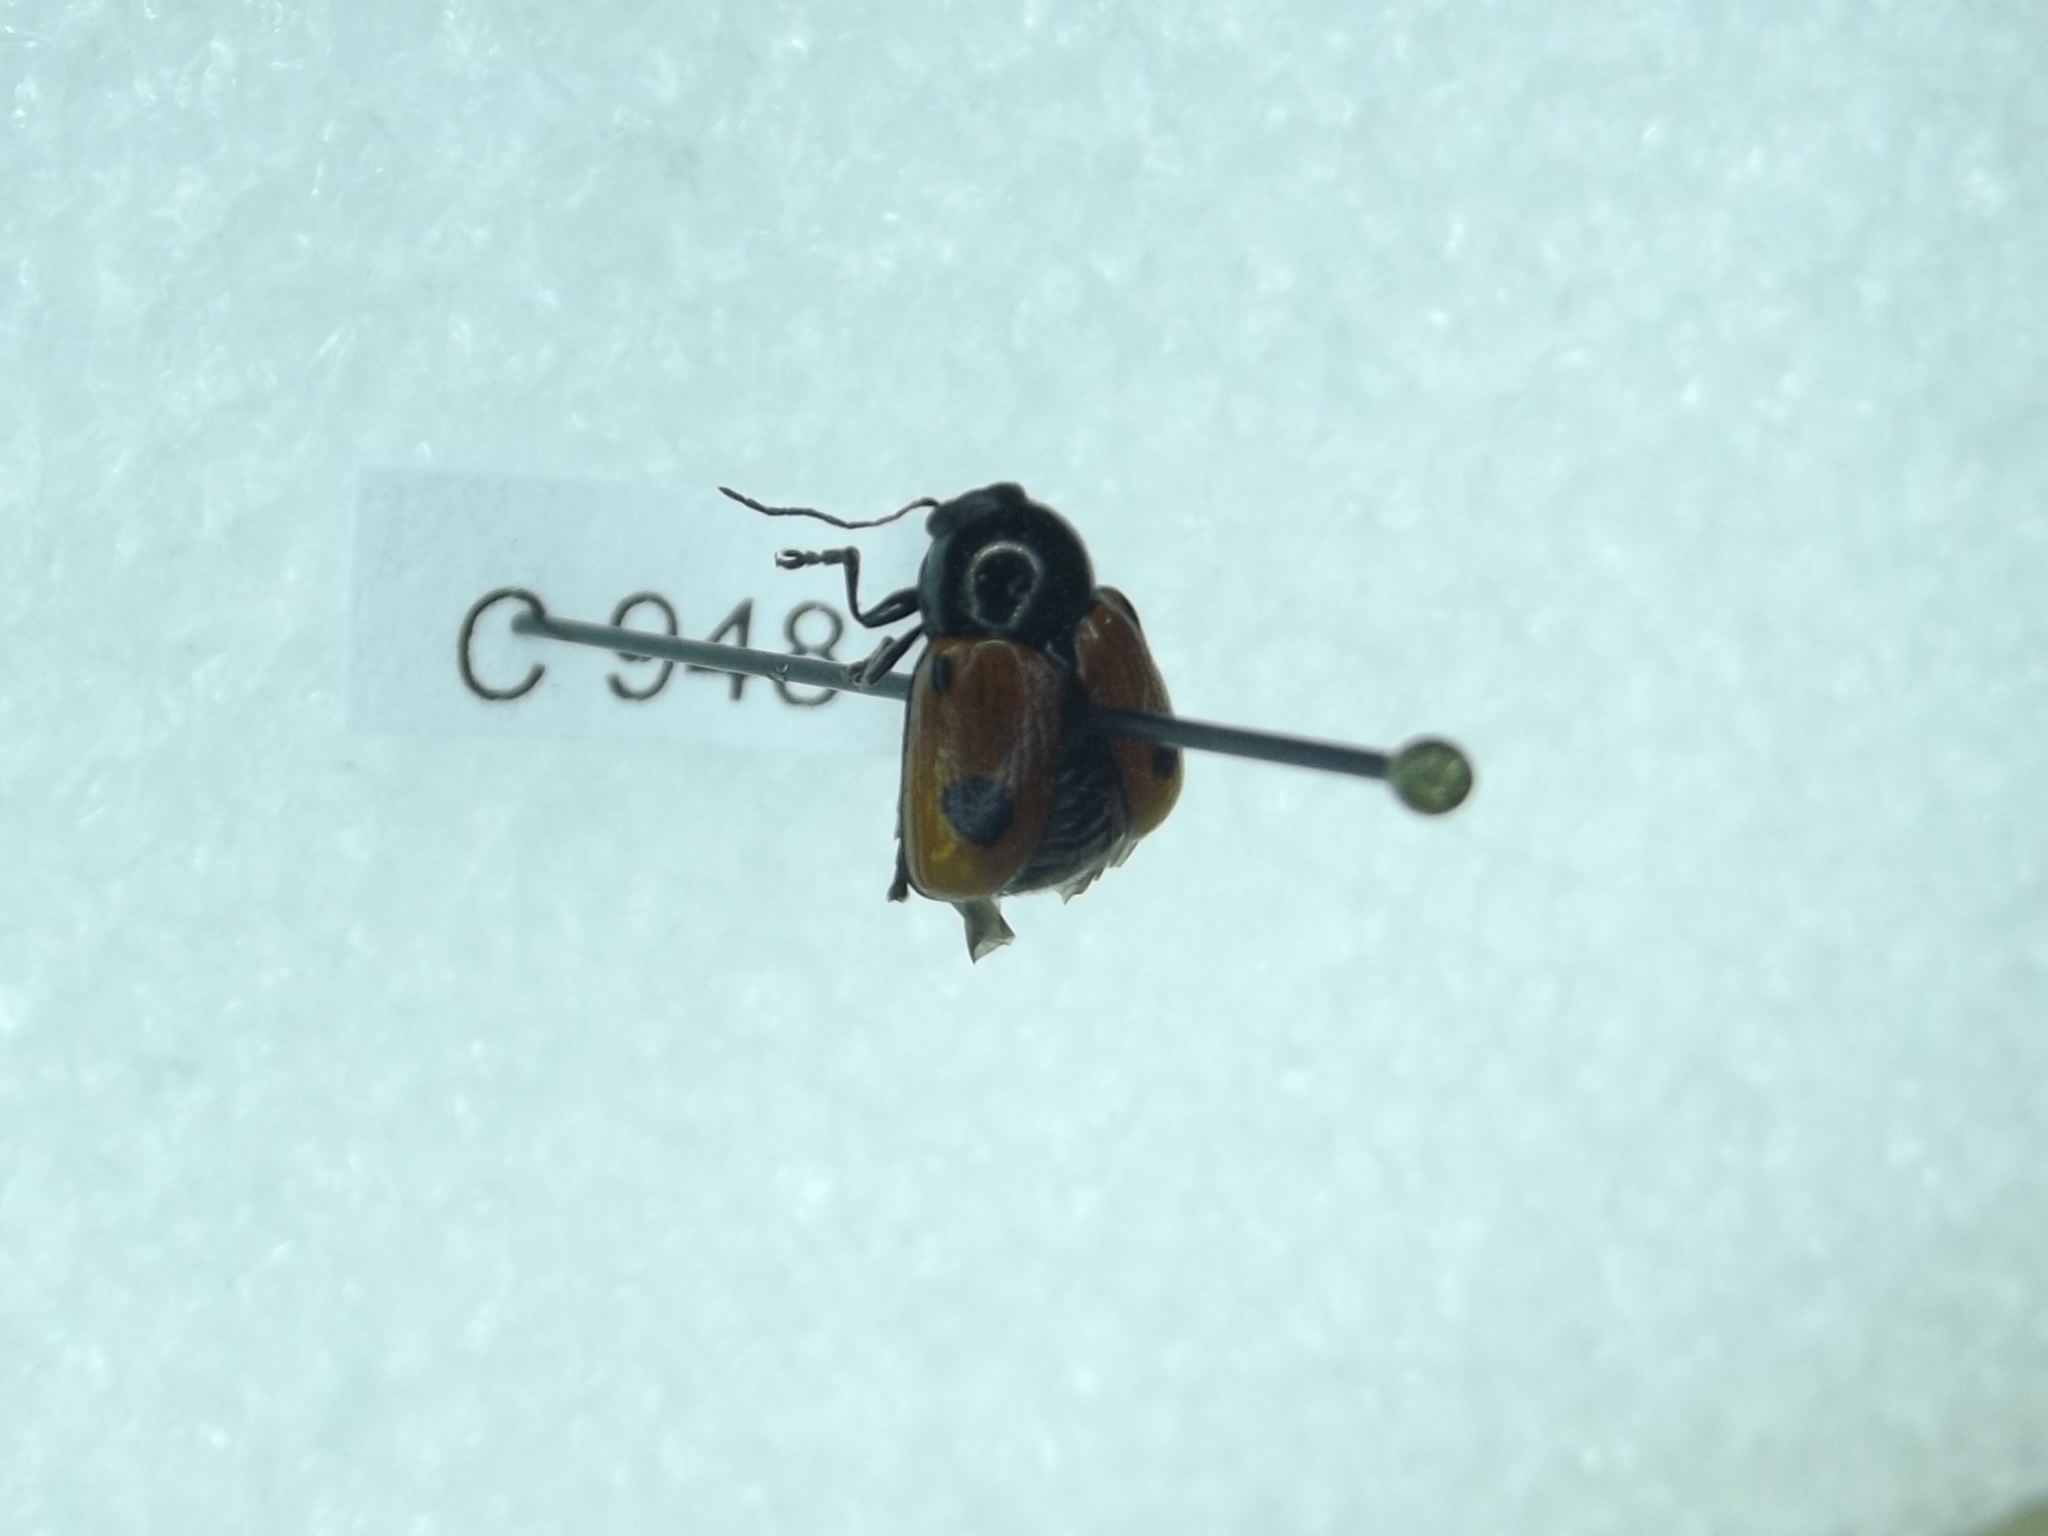Cryptocephalus_bipunctatus: (713, 465, 1214, 966)
